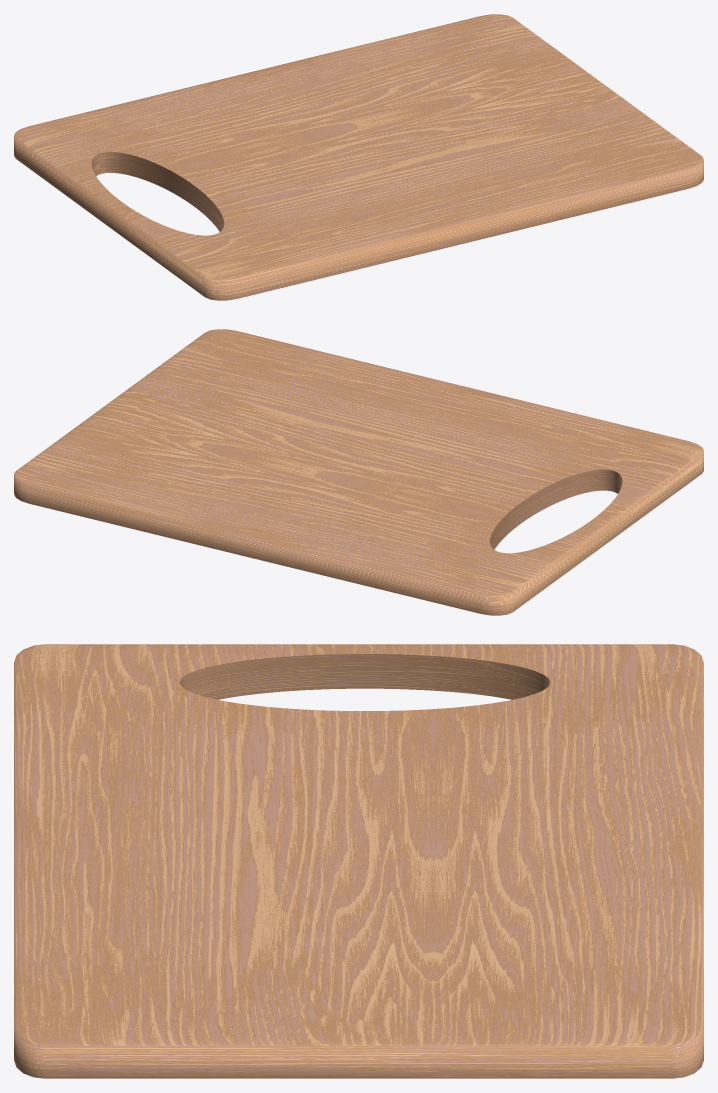
Rendered from SM_CuttingBoard.fbx.
3 renders of one model, top to bottom at view 1: azimuth 30°, elevation 25°; view 2: azimuth 150°, elevation 25°; view 3: azimuth 270°, elevation 25°, orthographic. The views are drawn at different scales.
Visible parts, largest first — view 1: CuttingBoard; view 2: CuttingBoard; view 3: CuttingBoard.
Part boxes in pixels (x1,y1,x2,y2): CuttingBoard: (14,14,703,300); CuttingBoard: (14,329,703,615); CuttingBoard: (14,644,703,1078).
Bounding box in the file's own units: 38.99 × 1.58 × 28.33.
